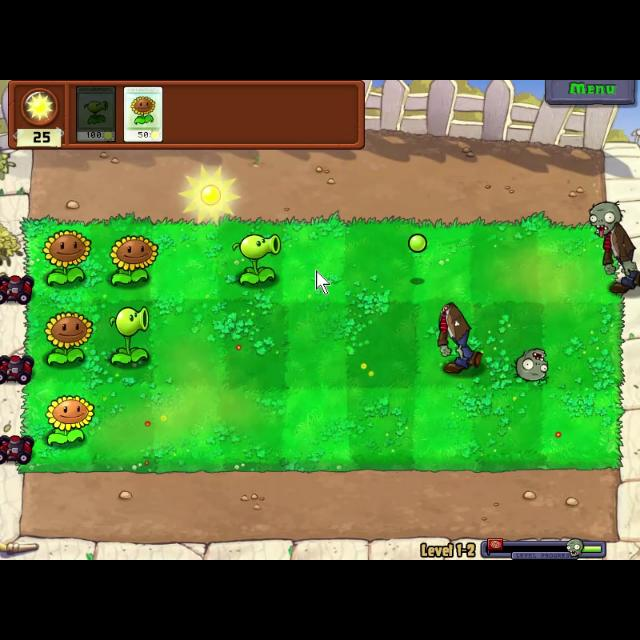Garden: (17, 212, 625, 478)
Menu Button: (545, 80, 639, 108)
Mower: (0, 431, 34, 471), (1, 272, 36, 308), (1, 351, 36, 387)
Peashooter: (73, 84, 117, 146)
Peashooter Seed: (104, 302, 156, 372), (230, 230, 282, 290)
Seed Panel: (7, 80, 371, 150)
Sun: (179, 162, 241, 226)
Sunflower: (122, 84, 162, 146)
Sunflower Seed: (36, 307, 92, 371), (38, 393, 98, 451), (100, 234, 163, 286), (43, 228, 93, 288)
Zombie: (588, 197, 640, 299), (428, 298, 490, 374)
